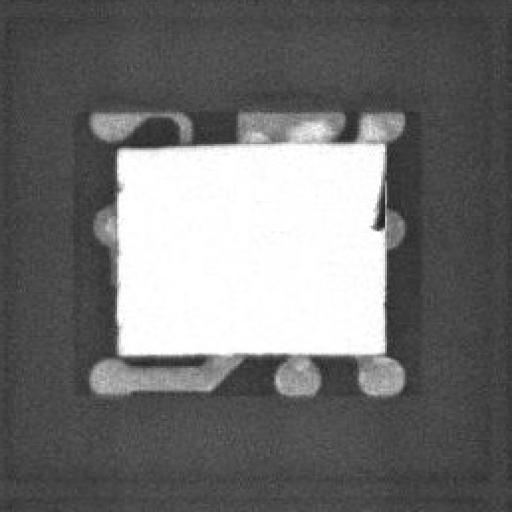DIE_BROKEN: (367, 184, 391, 231)
